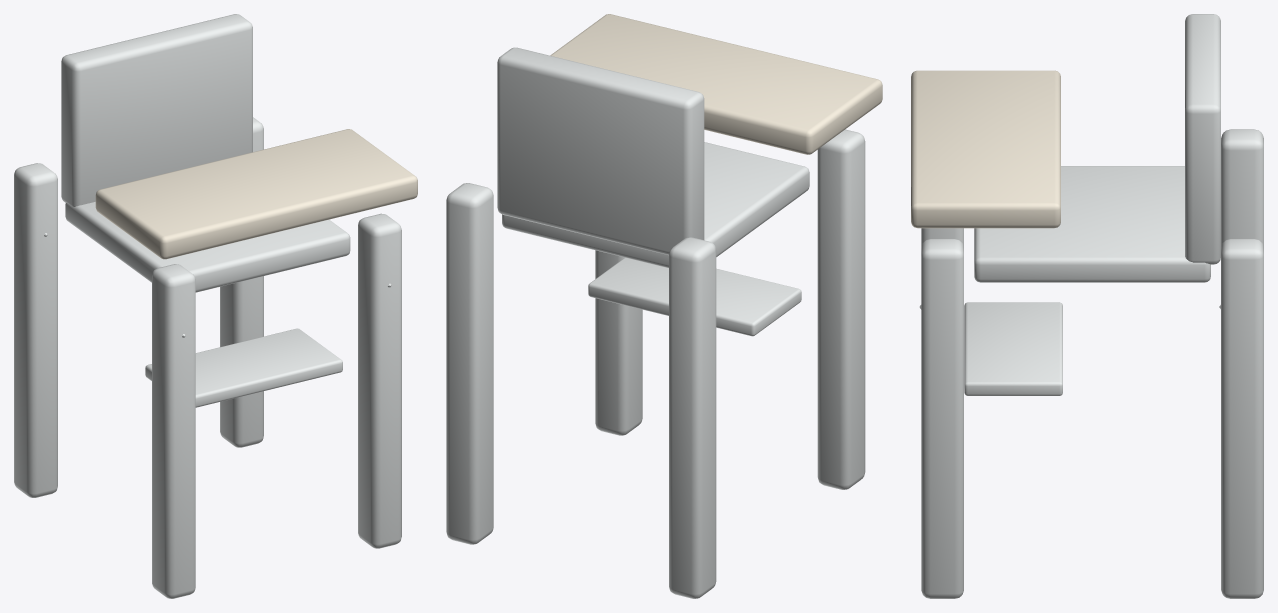
The model's file is high-chair.glb.
3 views of the same model, side by side, from view 1: azimuth 30°, elevation 25°; view 2: azimuth 150°, elevation 25°; view 3: azimuth 270°, elevation 25° (orthographic). The views are drawn at different scales.
Parts seen in each view (by area): view 1: catalog_surface_RealismUV; view 2: catalog_surface_RealismUV; view 3: catalog_surface_RealismUV.
Boxes of the visible parts, bbox=[...] form: catalog_surface_RealismUV: bbox=[14, 14, 417, 598]; catalog_surface_RealismUV: bbox=[446, 14, 882, 598]; catalog_surface_RealismUV: bbox=[911, 14, 1263, 598].
Size of the model in its own units: 0.55 by 0.9 by 0.6.
